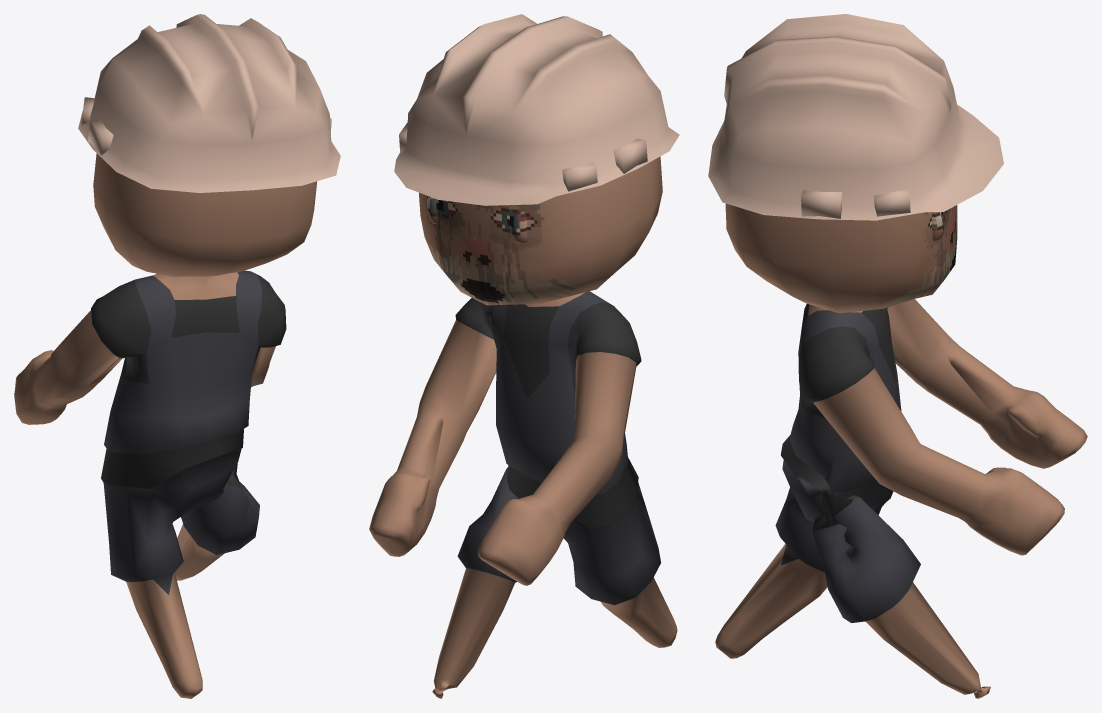
The model's file is robot_bulwark.glb.
3 renders of one model, left to right at view 1: azimuth 30°, elevation 25°; view 2: azimuth 150°, elevation 25°; view 3: azimuth 270°, elevation 25°, orthographic. The views are drawn at different scales.
Visible parts, largest first — view 1: robot_bulwark; view 2: robot_bulwark; view 3: robot_bulwark.
Part boxes in pixels (<box>): robot_bulwark: <box>14,14,340,698</box>; robot_bulwark: <box>369,14,679,698</box>; robot_bulwark: <box>708,14,1087,698</box>.
Bounding box in the file's own units: 0.8919 × 2.3 × 1.2.
Materials: 6 (1 with a texture image).
